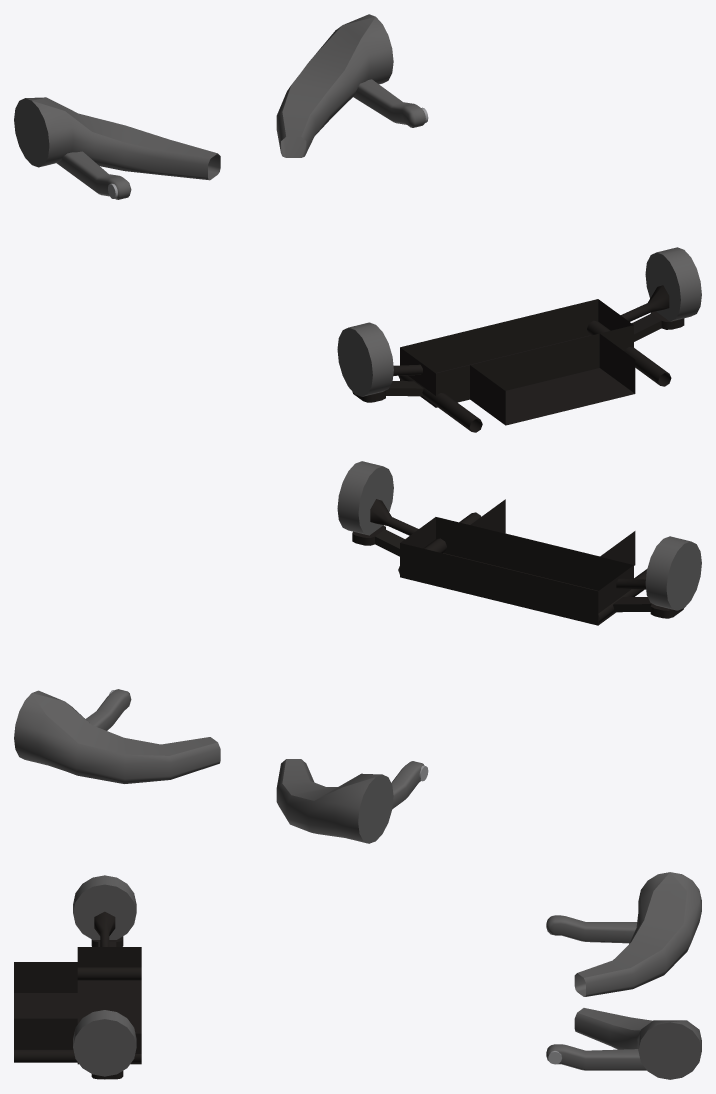
File: RWB_Suspension_Trim.fbx
3 views of the same model, one above another, from view 1: azimuth 30°, elevation 25°; view 2: azimuth 150°, elevation 25°; view 3: azimuth 270°, elevation 25° (orthographic). The views are drawn at different scales.
Visible parts, largest first — view 1: RWB_Suspension_Trim; view 2: RWB_Suspension_Trim; view 3: RWB_Suspension_Trim.
Boxes of the visible parts, x1,y1,x2,y2 form: RWB_Suspension_Trim: (14, 14, 701, 432); RWB_Suspension_Trim: (14, 461, 701, 843); RWB_Suspension_Trim: (14, 872, 701, 1079).
Bounding box in the file's own units: 141 × 32.43 × 273.
